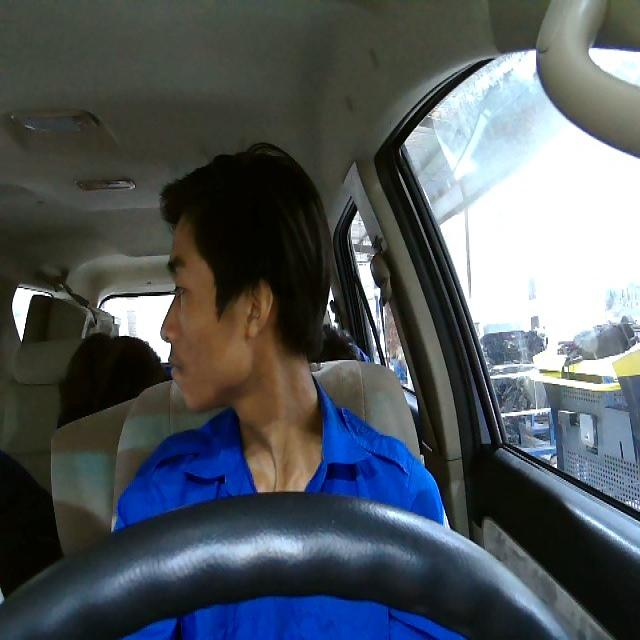seeing_left: (157, 204, 279, 416)
